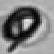correct: (0, 4, 46, 52)
